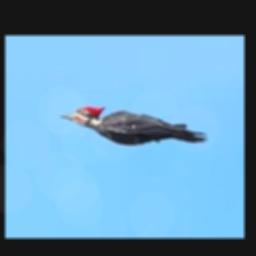Woodpecker: (61, 105, 208, 145)
